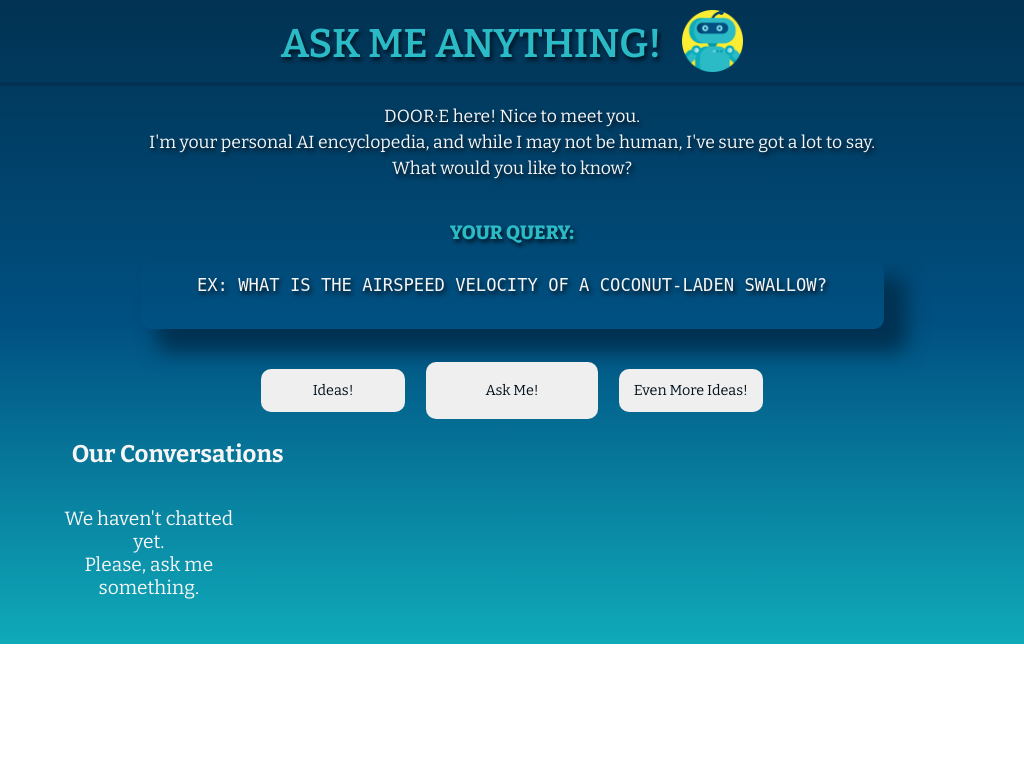
Test: Ask Me Anything › Should allow a user to type a question, submit the question, and view the API response
This screenshot has width=1024, height=768.
Type "Do you like poems?" into the text box labelled "YOUR QUERY:".
click(513, 295); type("Do you like poems?")  # box [141,261,884,329]
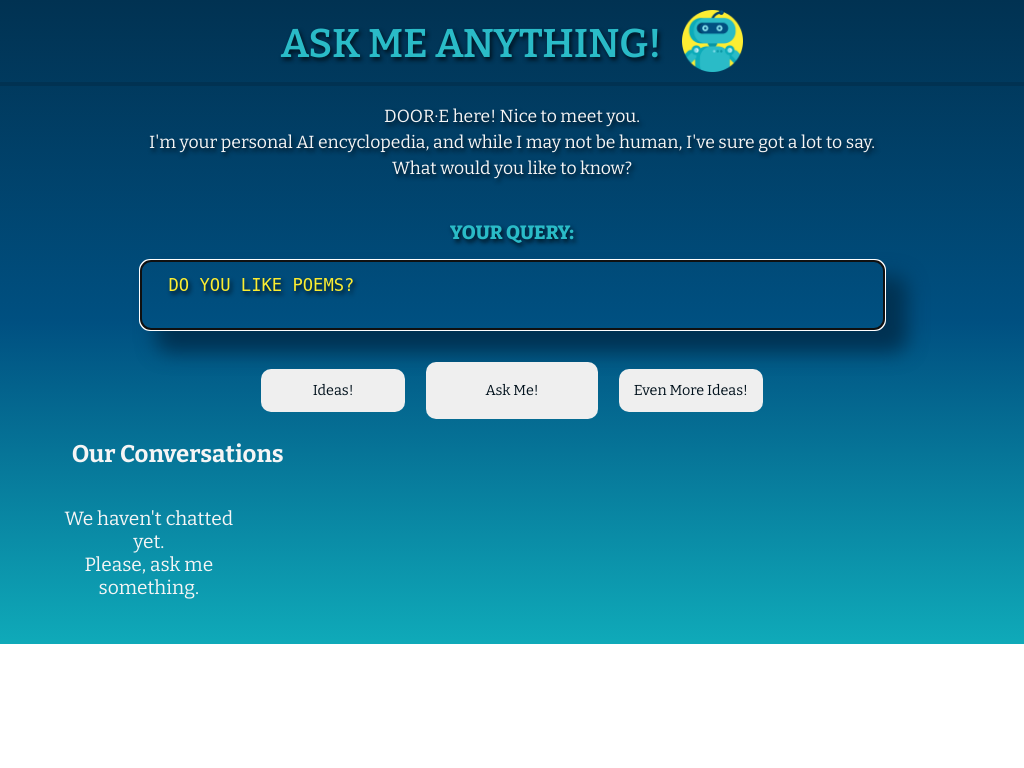
Click the button with class "ask-button".
click(513, 391)  # box [426,362,599,420]
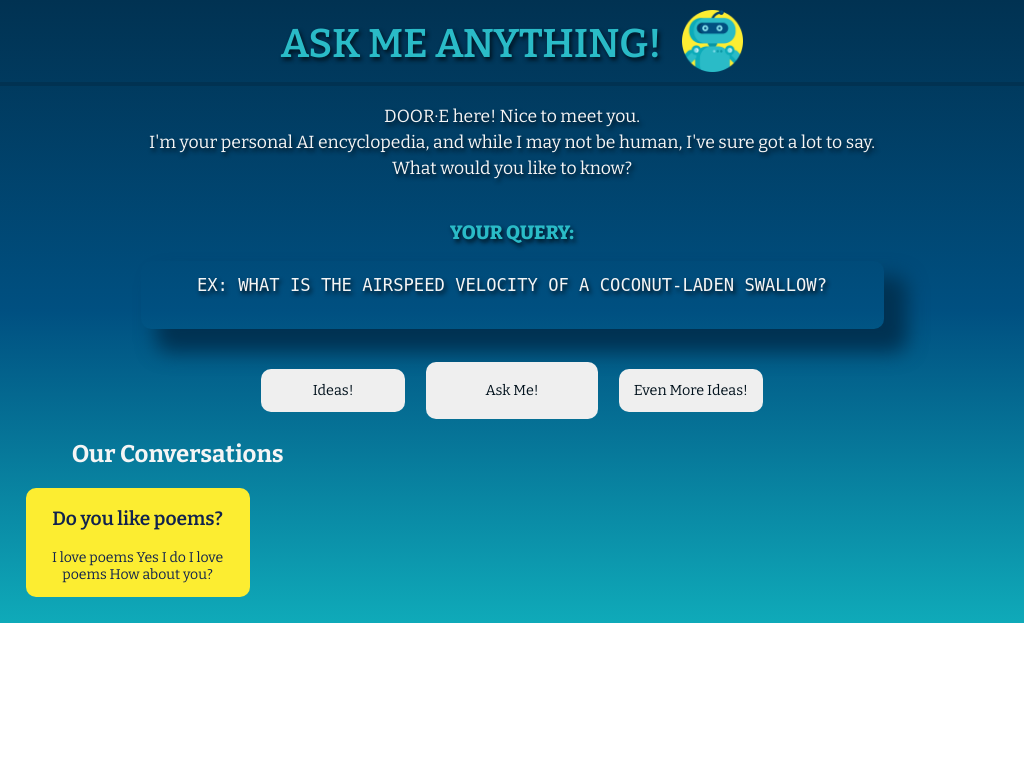
Result: the element that starts with "Do you like poems?" is shown at [26,488,250,598]
Result: the text "Do you like poems?" is shown at [38,507,237,530]
